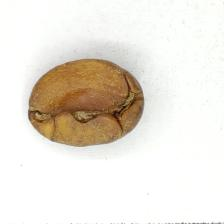NG: (33, 71, 137, 137)
